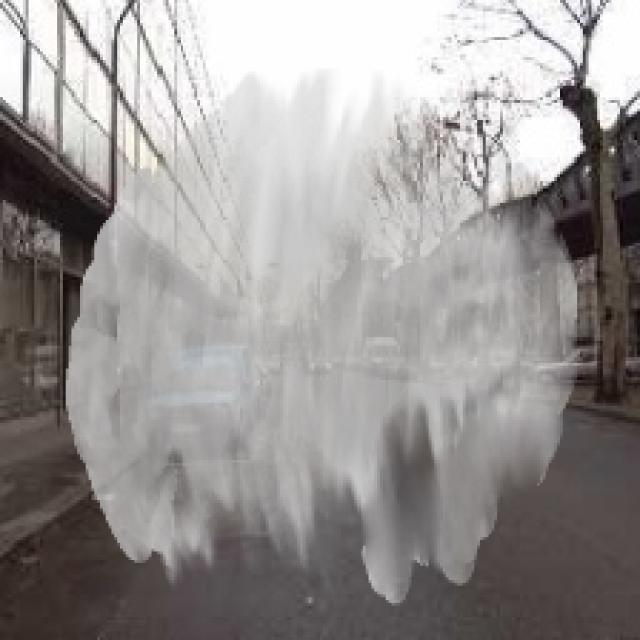Smoke: (65, 69, 580, 606)
